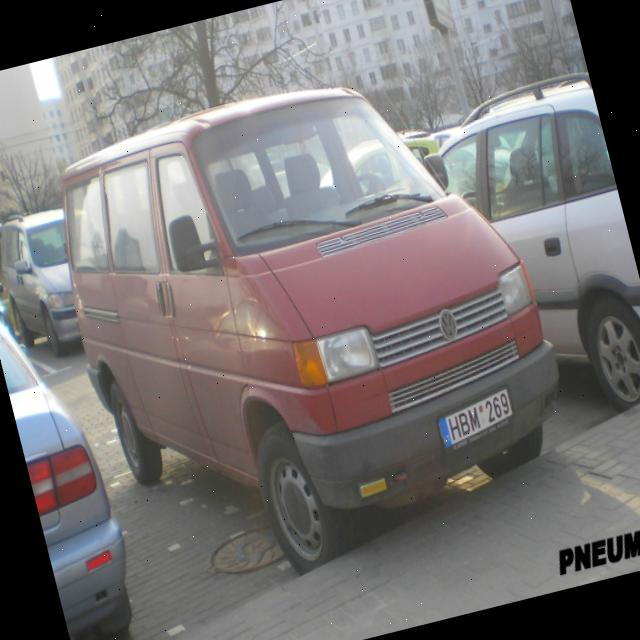License-plate: (432, 382, 520, 452)
